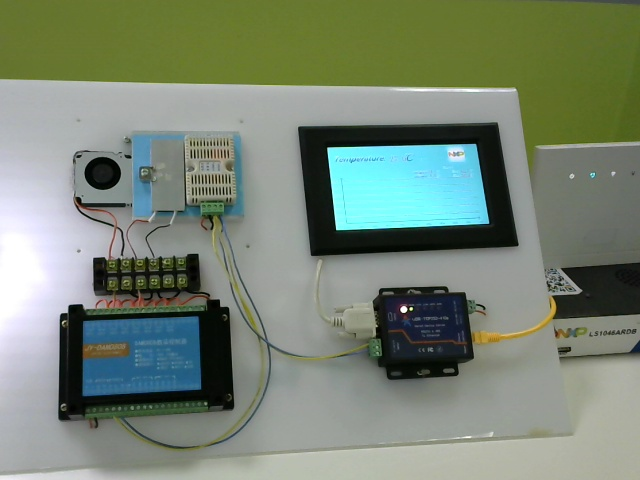fan: (70, 138, 133, 215)
heater: (149, 136, 184, 228)
modbus bridge: (374, 281, 497, 389)
relay: (56, 300, 243, 431)
termperature: (188, 131, 243, 210)
